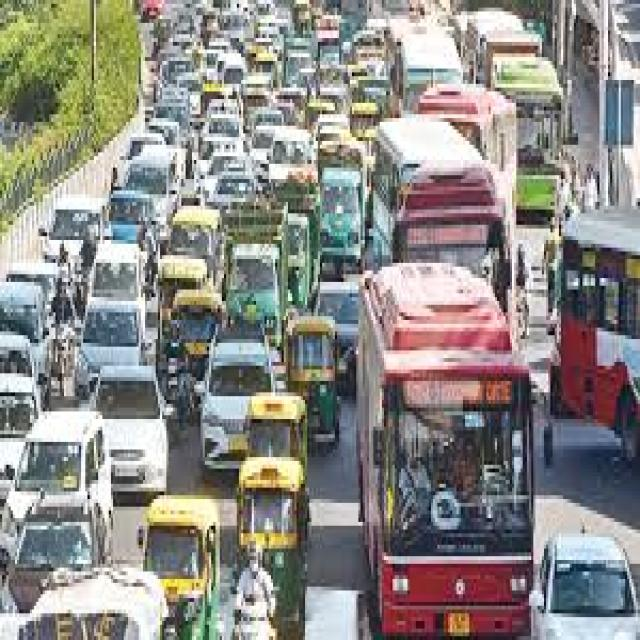bus: (361, 263, 531, 640), (373, 114, 508, 309), (550, 213, 638, 457), (493, 53, 561, 225), (420, 84, 514, 179), (454, 8, 540, 84), (401, 34, 461, 107)
car: (2, 415, 111, 537), (531, 533, 638, 640), (9, 499, 107, 613), (19, 568, 164, 640), (92, 370, 166, 507), (203, 343, 269, 469), (81, 244, 143, 377), (9, 210, 75, 301), (0, 373, 36, 510), (316, 282, 356, 396), (271, 126, 316, 210), (0, 282, 41, 343), (105, 190, 149, 244), (0, 335, 28, 377)
motorcycle: (233, 602, 277, 640)
person: (237, 545, 273, 617), (544, 232, 559, 312)
three wheeler: (239, 457, 305, 640), (145, 495, 218, 640), (288, 316, 337, 442), (247, 396, 305, 472), (171, 290, 220, 377), (288, 213, 307, 309)
